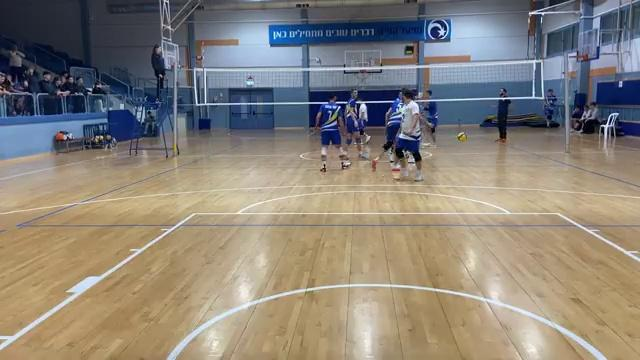ball: (453, 129, 468, 142)
